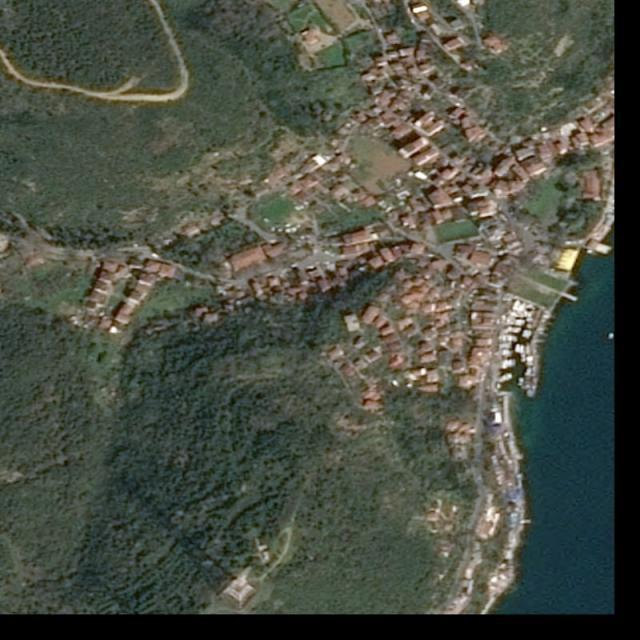ship: (495, 371, 513, 384), (499, 359, 516, 370), (498, 334, 518, 342), (506, 318, 526, 326), (505, 326, 522, 334), (498, 349, 514, 357), (498, 342, 511, 349), (514, 343, 521, 353), (520, 354, 526, 364), (521, 344, 526, 354), (609, 331, 614, 340)
